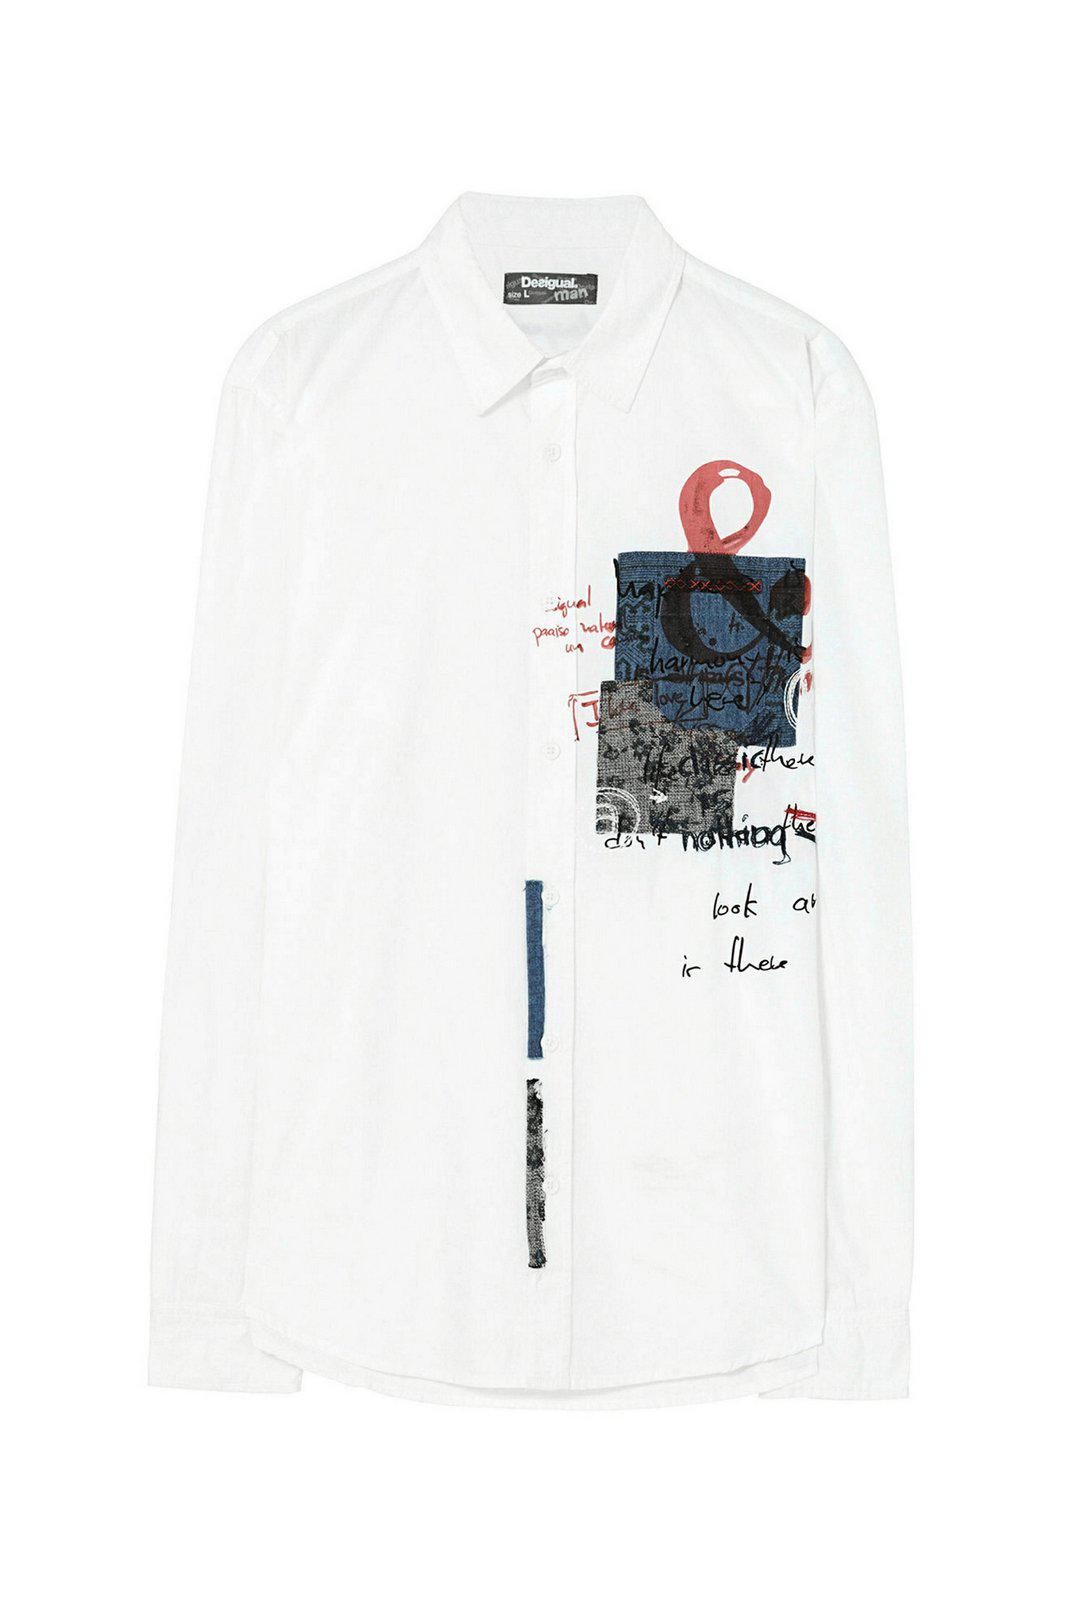teeshirt: (148, 182, 947, 1410)
